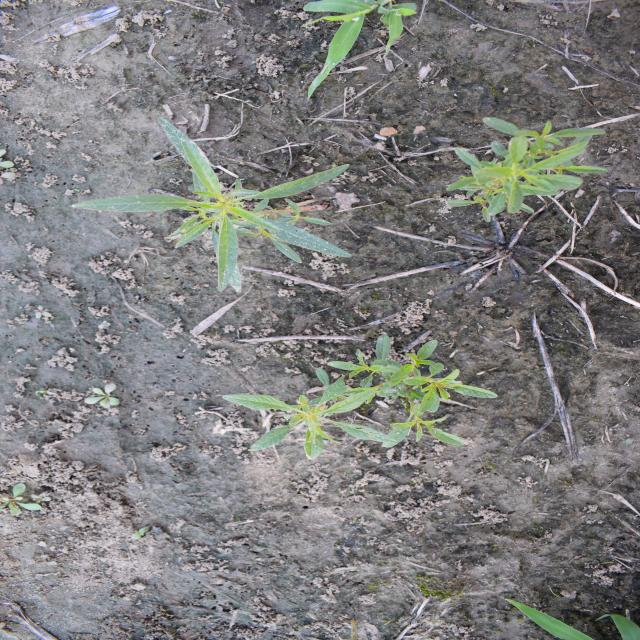Carpetweed: (0, 484, 42, 520), (82, 383, 124, 413)
Waterhemp: (67, 115, 356, 294), (218, 334, 500, 461), (442, 115, 610, 222)
